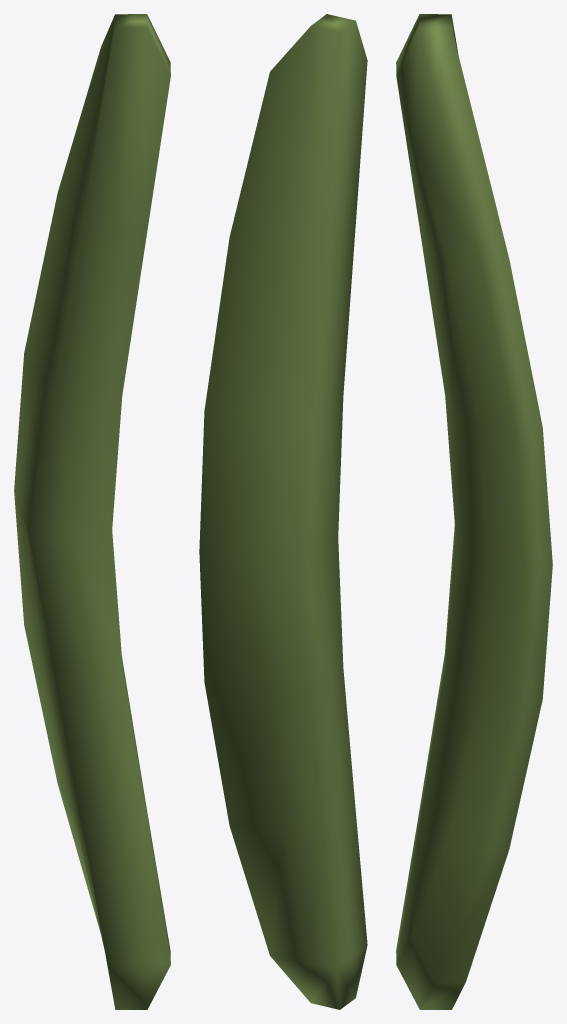
Rendered from CutPickle.fbx.
The picture shows the model from 3 angles, left to right: view 1: azimuth 90°, elevation 25°; view 2: azimuth 150°, elevation 25°; view 3: azimuth 270°, elevation 25°; orthographic projection.
Visible parts, largest first — view 1: CutPickle; view 2: CutPickle; view 3: CutPickle.
Part boxes in pixels (box(x1,y1,x2,y2)): CutPickle: box(14, 14, 170, 1009); CutPickle: box(199, 14, 367, 1009); CutPickle: box(396, 14, 552, 1009).
Bounding box in the file's own units: 2.5 × 25.92 × 3.75.
